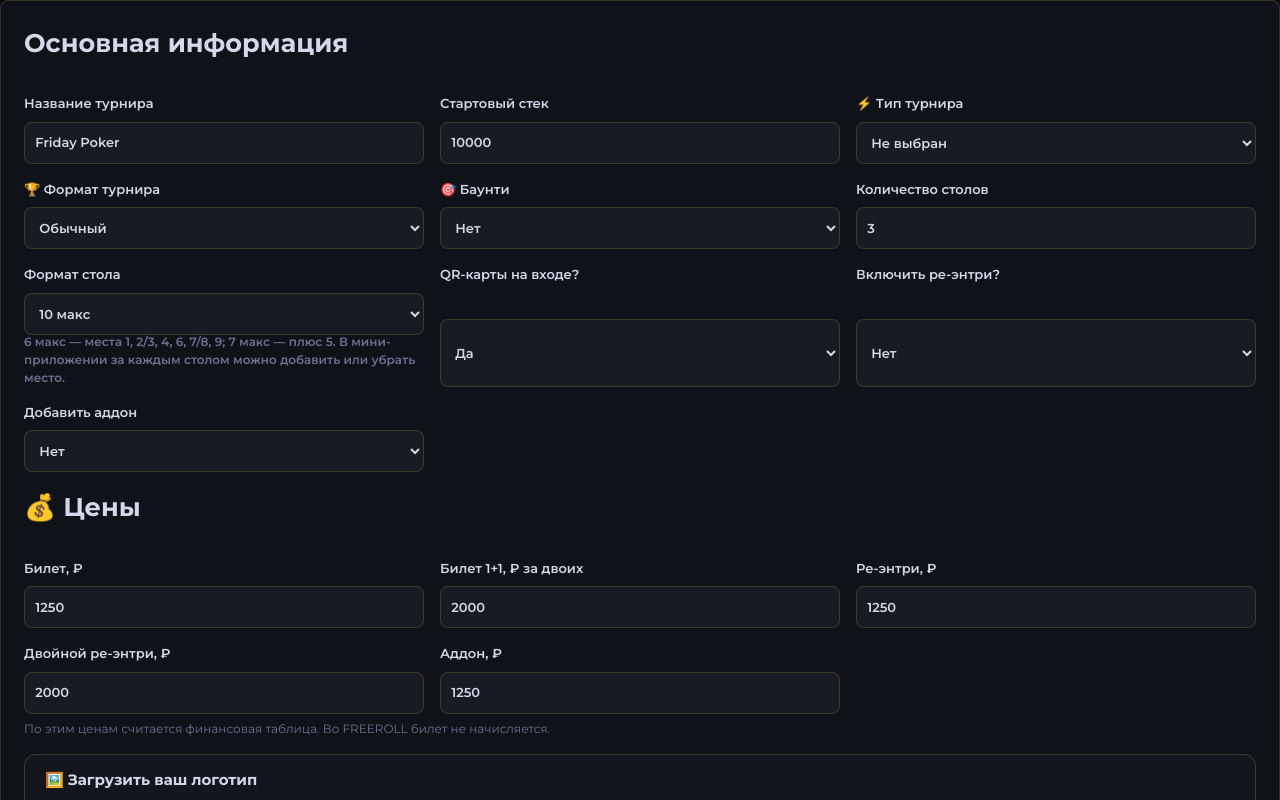
Test: re-entry settings UI › switches the format to FREEROLL when the freeroll preset is picked
The image size is (1280, 800).
Select "Фриролл" in the dropdown labelled "⚡ Тип турнира" at (1056, 143), box 856,122 -> 1256,164
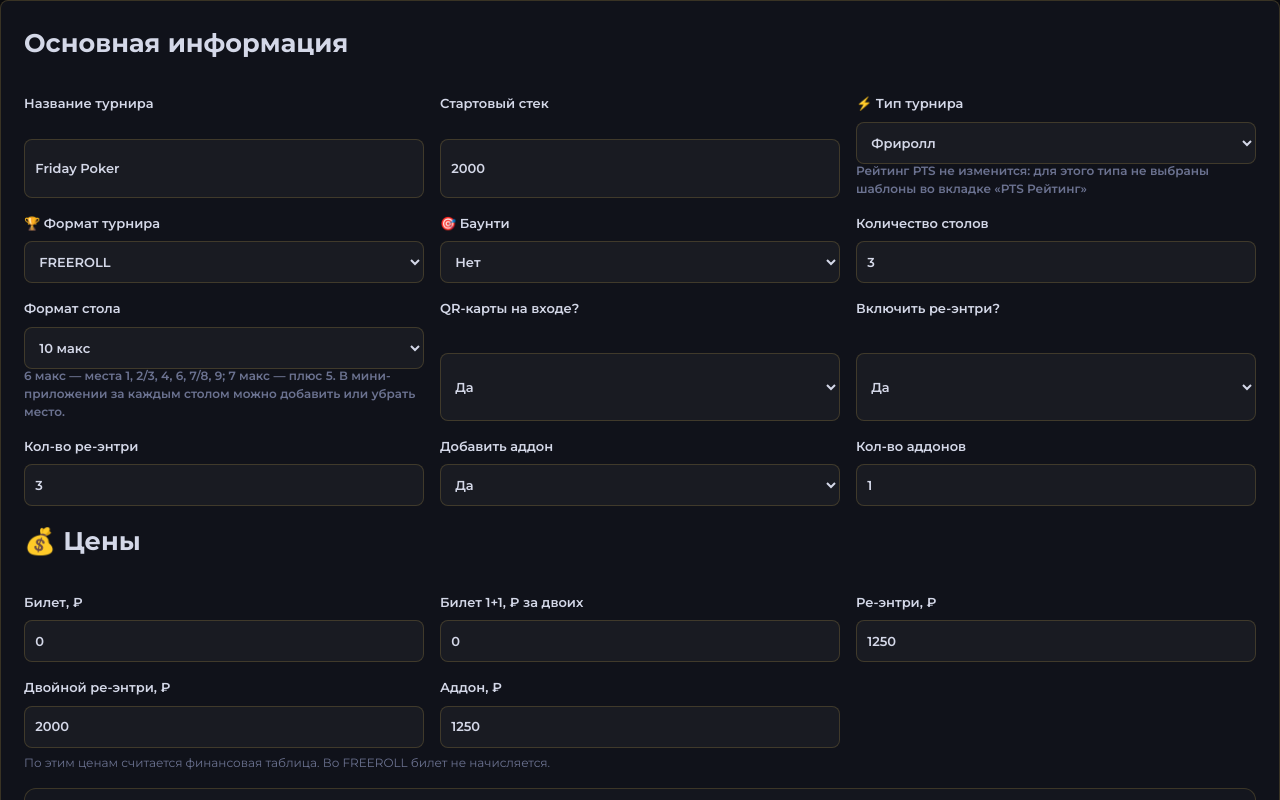
Expected: the dropdown named "тип баунти" shows "Нет", 440,241 -> 840,283
Expected: the dropdown labelled "🏆 Формат турнира" shows "FREEROLL", 24,241 -> 424,283
